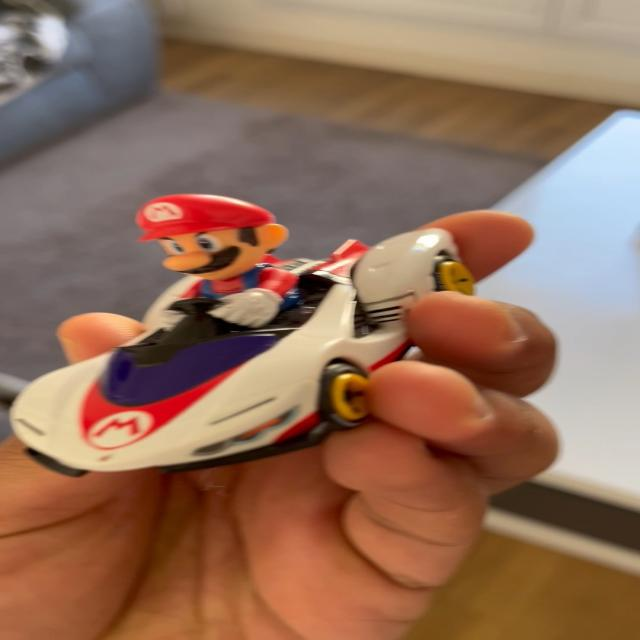mario: (0, 177, 492, 485)
